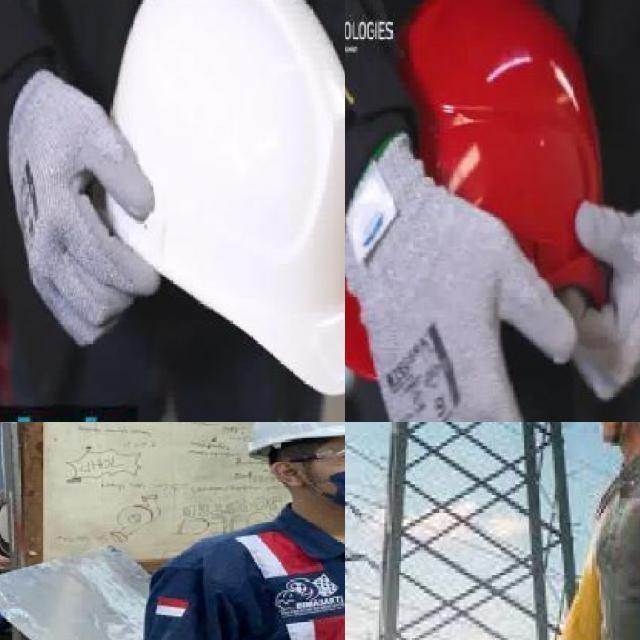apron: (345, 132, 580, 422), (2, 64, 162, 358), (546, 197, 640, 403)
